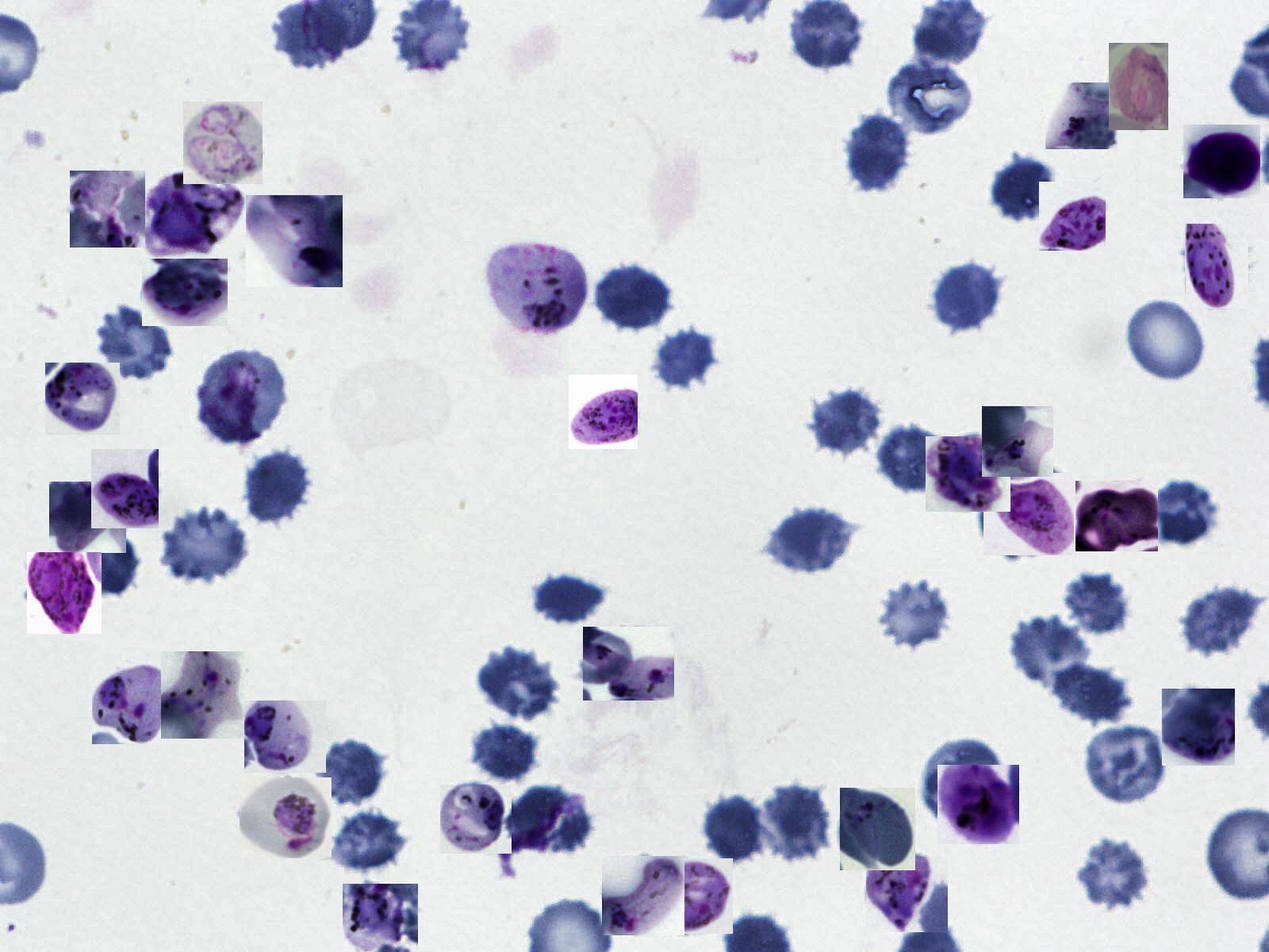Infected: (485, 242, 588, 332), (246, 195, 343, 287), (199, 349, 289, 444), (143, 167, 239, 255), (161, 651, 249, 739), (983, 473, 1074, 555), (240, 777, 332, 858), (583, 627, 674, 701), (183, 102, 263, 184), (937, 765, 1019, 844), (602, 856, 684, 935), (649, 858, 733, 934), (926, 436, 1010, 512), (92, 662, 169, 744), (866, 857, 948, 932), (27, 552, 102, 634), (840, 788, 915, 870), (244, 701, 326, 773), (1075, 481, 1158, 551), (70, 171, 145, 248), (142, 259, 228, 326), (1162, 689, 1235, 766), (1183, 125, 1260, 198), (49, 482, 126, 553), (45, 363, 120, 435), (91, 449, 159, 528), (1185, 224, 1248, 309), (569, 374, 638, 449), (1109, 43, 1168, 130), (343, 884, 418, 952), (982, 406, 1053, 477), (440, 785, 512, 854), (1045, 83, 1118, 149), (1039, 182, 1106, 251)
Uninfected: (763, 504, 864, 579), (1125, 298, 1210, 384), (923, 739, 1007, 824), (162, 501, 250, 582), (1083, 724, 1171, 803), (891, 57, 973, 137), (1011, 612, 1094, 690), (476, 646, 561, 722), (758, 781, 833, 865), (1072, 835, 1153, 912), (510, 787, 596, 856), (595, 259, 672, 336), (807, 385, 886, 460), (1181, 582, 1262, 654), (844, 113, 915, 194), (874, 421, 950, 496), (932, 259, 1006, 336), (328, 808, 408, 879), (1148, 476, 1223, 551), (876, 578, 953, 651), (270, 1, 350, 71), (243, 448, 312, 528), (650, 325, 723, 394), (98, 310, 169, 379), (1051, 658, 1124, 724), (320, 737, 389, 802), (990, 156, 1055, 225), (469, 720, 540, 783), (700, 796, 765, 864), (68, 530, 137, 592), (529, 574, 608, 626), (1068, 571, 1129, 634)
